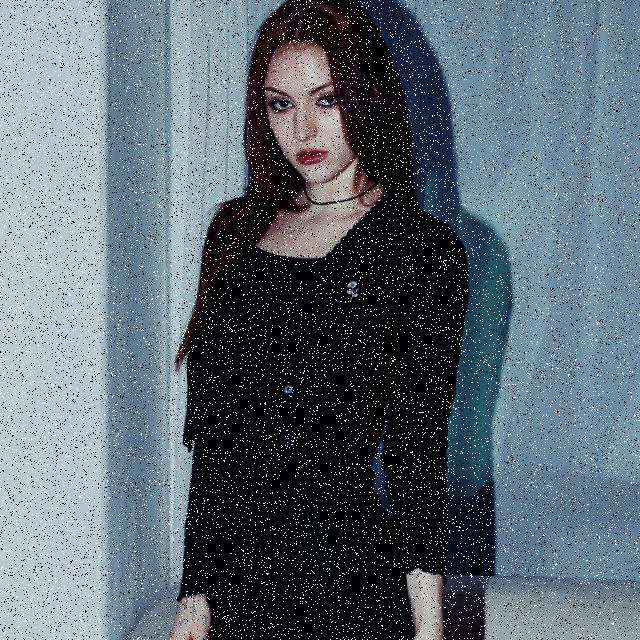dress: (183, 181, 470, 602)
